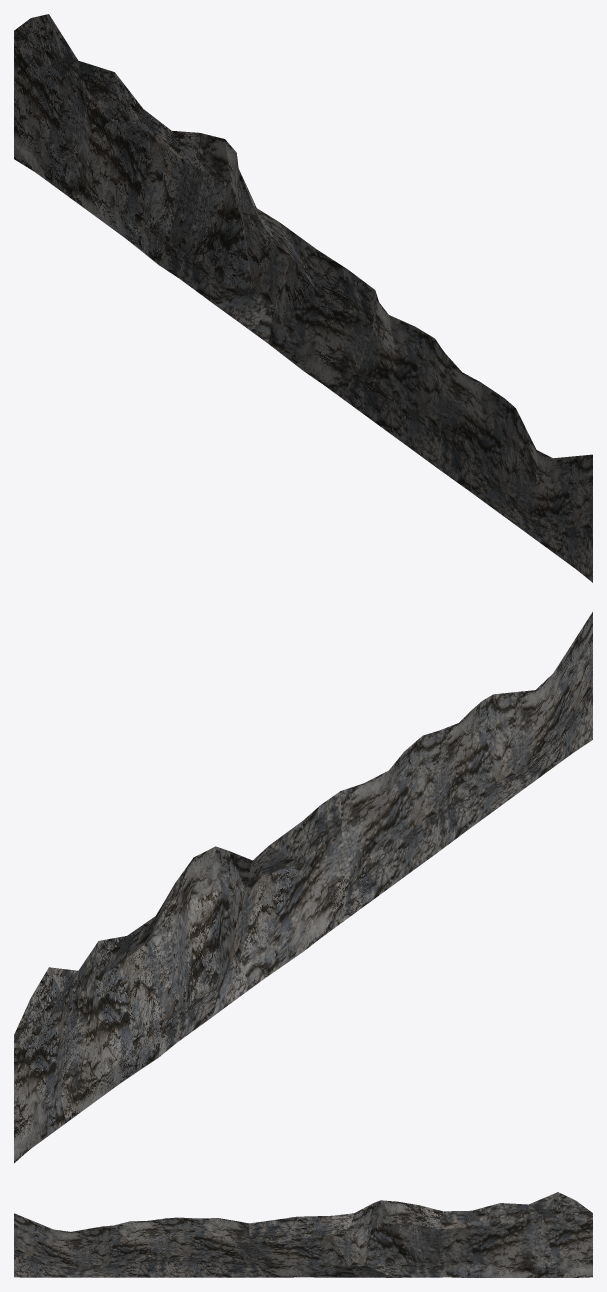
File: lowWallToplowWallTop_03_long.glb
3 renders of one model, top to bottom at view 1: azimuth 30°, elevation 25°; view 2: azimuth 150°, elevation 25°; view 3: azimuth 270°, elevation 25°, orthographic. The views are drawn at different scales.
Parts seen in each view (by area): view 1: lowWallTop_03_long; view 2: lowWallTop_03_long; view 3: lowWallTop_03_long.
Boxes of the visible parts, left/top/right/bottom form: lowWallTop_03_long: left=14, top=14, right=592, bottom=582; lowWallTop_03_long: left=14, top=612, right=592, bottom=1163; lowWallTop_03_long: left=14, top=1192, right=592, bottom=1277.
Size of the model in its own units: 1.29 by 10.43 by 64.
1 material, 1 textured.
